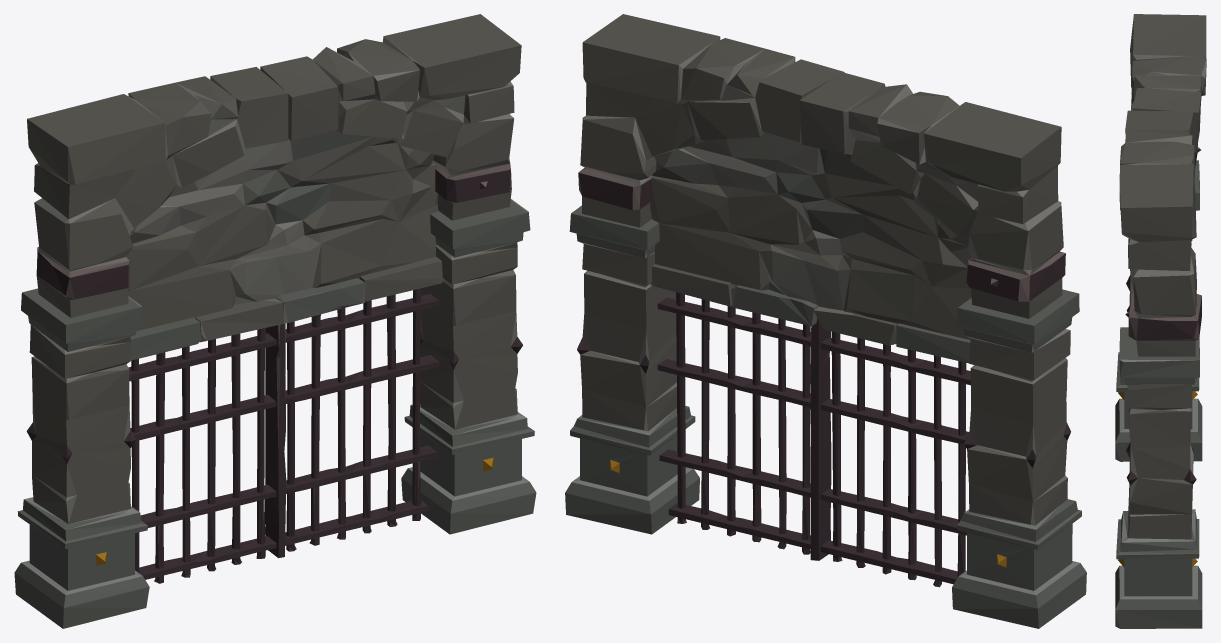
File: MDungeons_Walls_MetalBars_01.FBX
3 renders of one model, left to right at view 1: azimuth 30°, elevation 25°; view 2: azimuth 150°, elevation 25°; view 3: azimuth 270°, elevation 25°, orthographic. The views are drawn at different scales.
Parts seen in each view (by area): view 1: MDungeons_Walls_MetalBars_01_LOD0; view 2: MDungeons_Walls_MetalBars_01_LOD0; view 3: MDungeons_Walls_MetalBars_01_LOD0.
Boxes of the visible parts, bbox=[...] form: MDungeons_Walls_MetalBars_01_LOD0: bbox=[14, 14, 536, 628]; MDungeons_Walls_MetalBars_01_LOD0: bbox=[565, 14, 1086, 628]; MDungeons_Walls_MetalBars_01_LOD0: bbox=[1115, 14, 1206, 628].
Size of what is drawn, in the model's own units: 6.26 by 6.05 by 1.19.
